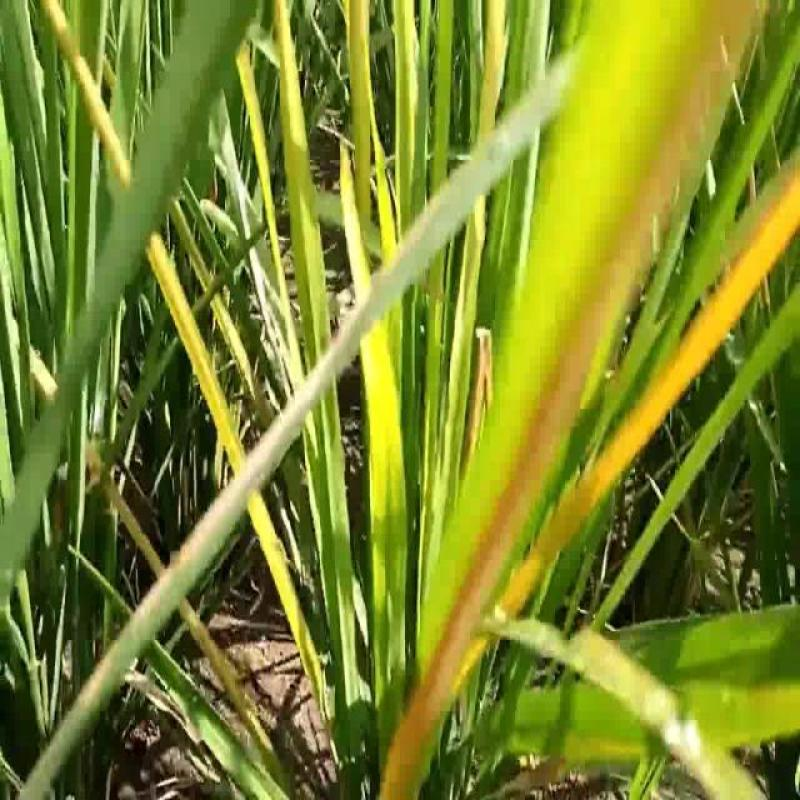Rice Tungro: (434, 1, 774, 624), (559, 145, 799, 537), (44, 8, 230, 464)
